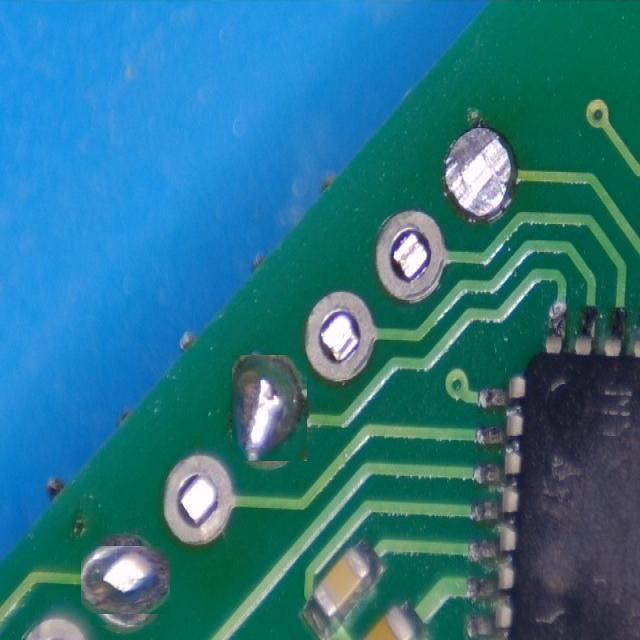Dry_joint: (233, 355, 305, 461), (81, 547, 169, 614)
